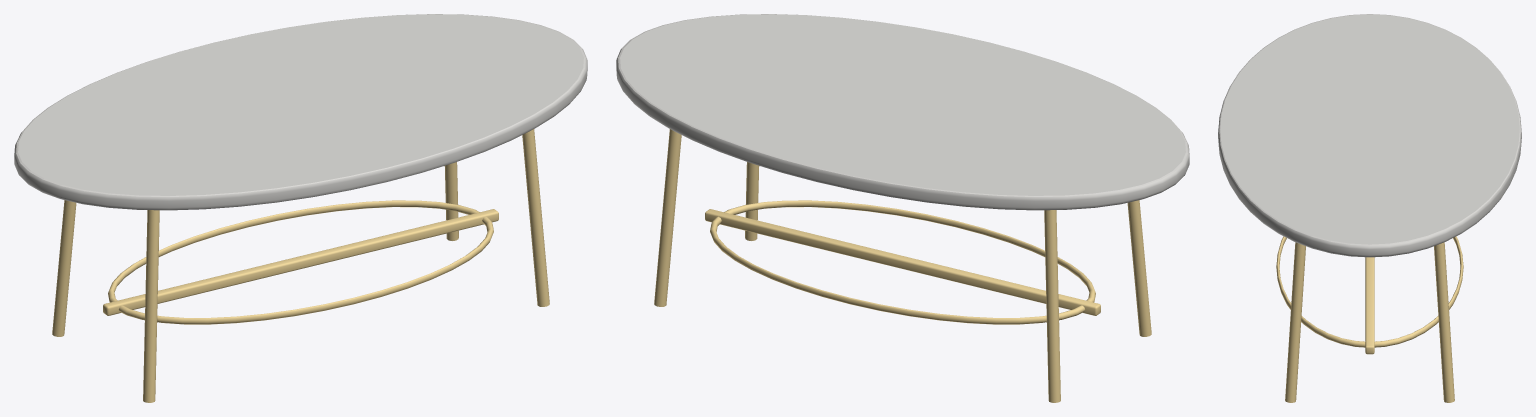
The model's file is coffee_table.glb.
The picture shows the model from 3 angles, left to right: view 1: azimuth 30°, elevation 25°; view 2: azimuth 150°, elevation 25°; view 3: azimuth 270°, elevation 25°; orthographic projection. The views are drawn at different scales.
Visible parts, largest first — view 1: top, ring, stretcher, leg, leg.002, leg.001, leg.003; view 2: top, ring, stretcher, leg.001, leg.003, leg, leg.002; view 3: top, leg.002, leg.003, ring, stretcher.
Part boxes in pixels (x1,y1,x2,y2): top: [14, 14, 587, 210]; ring: [108, 200, 493, 324]; stretcher: [103, 209, 498, 315]; leg: [143, 210, 159, 402]; leg.002: [522, 129, 549, 306]; leg.001: [52, 200, 76, 336]; leg.003: [444, 162, 458, 240]; top: [616, 14, 1189, 210]; ring: [710, 200, 1095, 324]; stretcher: [705, 209, 1100, 315]; leg.001: [1044, 210, 1060, 402]; leg.003: [654, 129, 681, 306]; leg: [1127, 200, 1151, 336]; leg.002: [745, 162, 759, 240]; top: [1218, 14, 1521, 257]; leg.002: [1285, 242, 1305, 402]; leg.003: [1434, 242, 1454, 402]; ring: [1276, 236, 1463, 347]; stretcher: [1365, 257, 1374, 354].
Size of the model in its own units: 1.2 by 0.4502 by 0.66.
